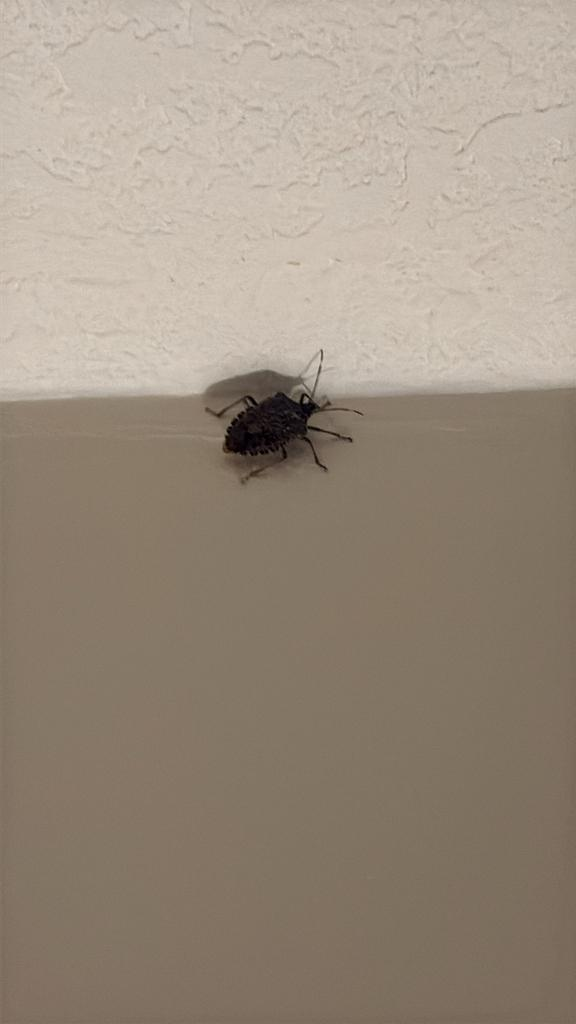stink_bugs: (172, 323, 382, 509)
